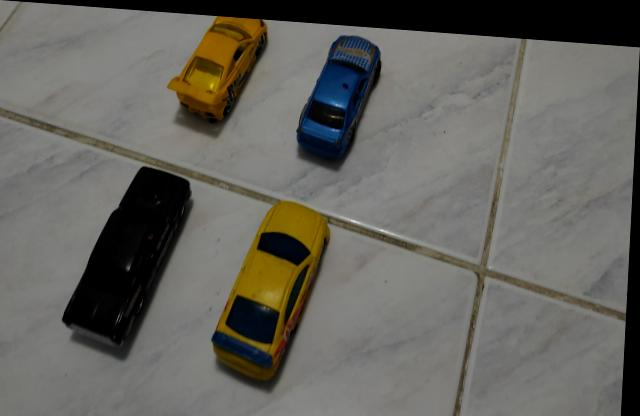01_FORD: (64, 163, 195, 346)
02_OZSOME: (214, 197, 332, 377)
04_MERZEDES: (297, 30, 383, 158)
07_RHLTURBO: (167, 13, 268, 119)
